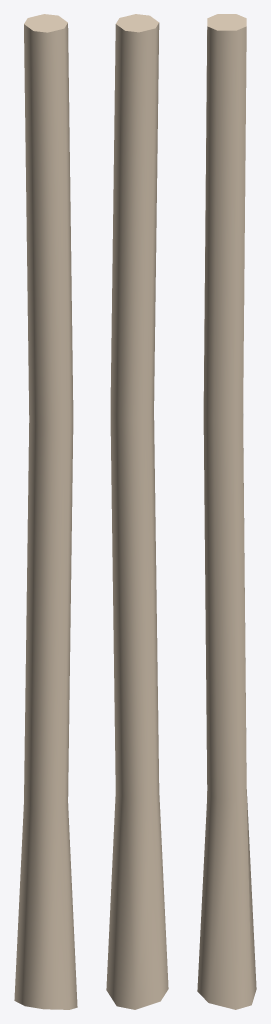
File: Rope_1.glb
3 views of the same model, side by side, from view 1: azimuth 30°, elevation 25°; view 2: azimuth 210°, elevation 25°; view 3: azimuth 270°, elevation 25° (orthographic).
Parts seen in each view (by area): view 1: Rope_1; view 2: Rope_1; view 3: Rope_1.
Boxes of the visible parts, left/top/right/bottom form: Rope_1: left=14, top=14, right=77, bottom=1009; Rope_1: left=106, top=14, right=168, bottom=1009; Rope_1: left=197, top=14, right=256, bottom=1009.
Bounding box in the file's own units: 0.0375 × 0.6943 × 0.0382.
